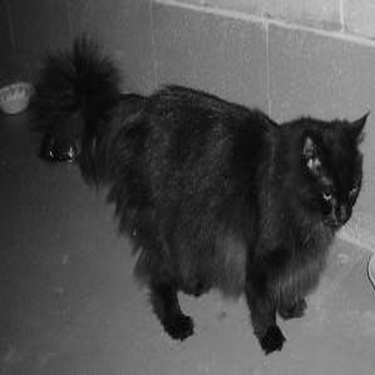cat: (21, 27, 371, 361)
